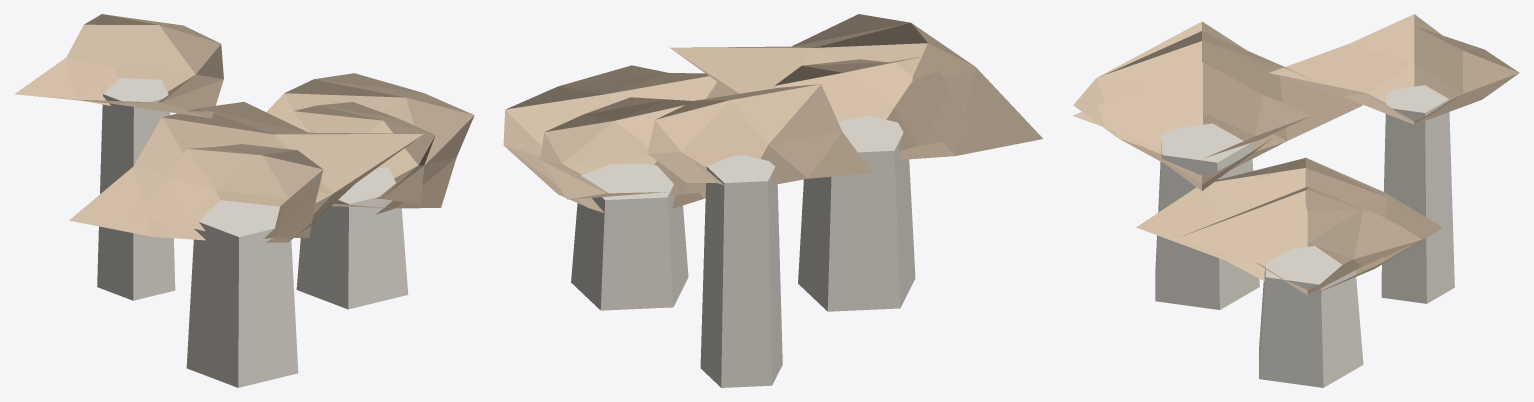
Rendered from mushroom_v07.glb.
The picture shows the model from 3 angles, left to right: view 1: azimuth 30°, elevation 25°; view 2: azimuth 150°, elevation 25°; view 3: azimuth 270°, elevation 25°; orthographic projection. The views are drawn at different scales.
Visible parts, largest first — view 1: lod0; view 2: lod0; view 3: lod0.
Boxes of the visible parts, box(x1,y1,x2,y2) form: lod0: box(14, 14, 474, 387); lod0: box(503, 14, 1042, 387); lod0: box(1072, 14, 1519, 387).
Size of what is drawn, in the model's own units: 0.8478 by 0.4666 by 0.7315.
